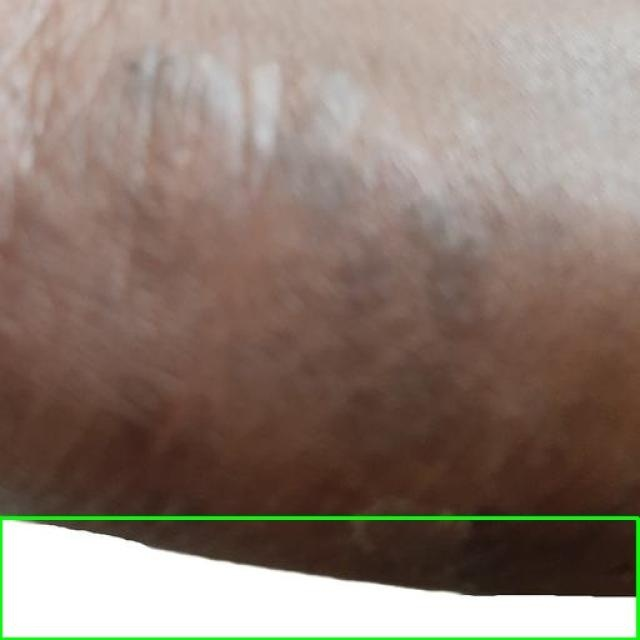Contact Dermatitis: (0, 518, 639, 639)
